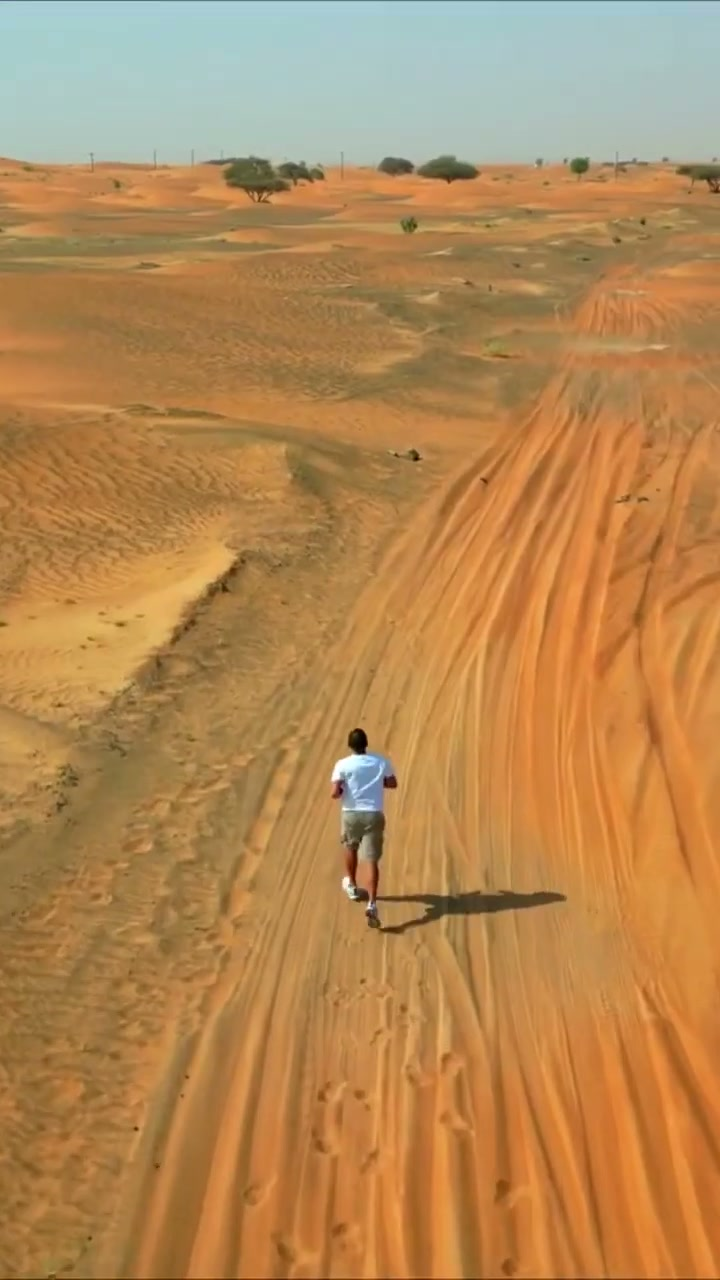human: (331, 728, 396, 926)
vehicle_track: (415, 355, 719, 1279)
